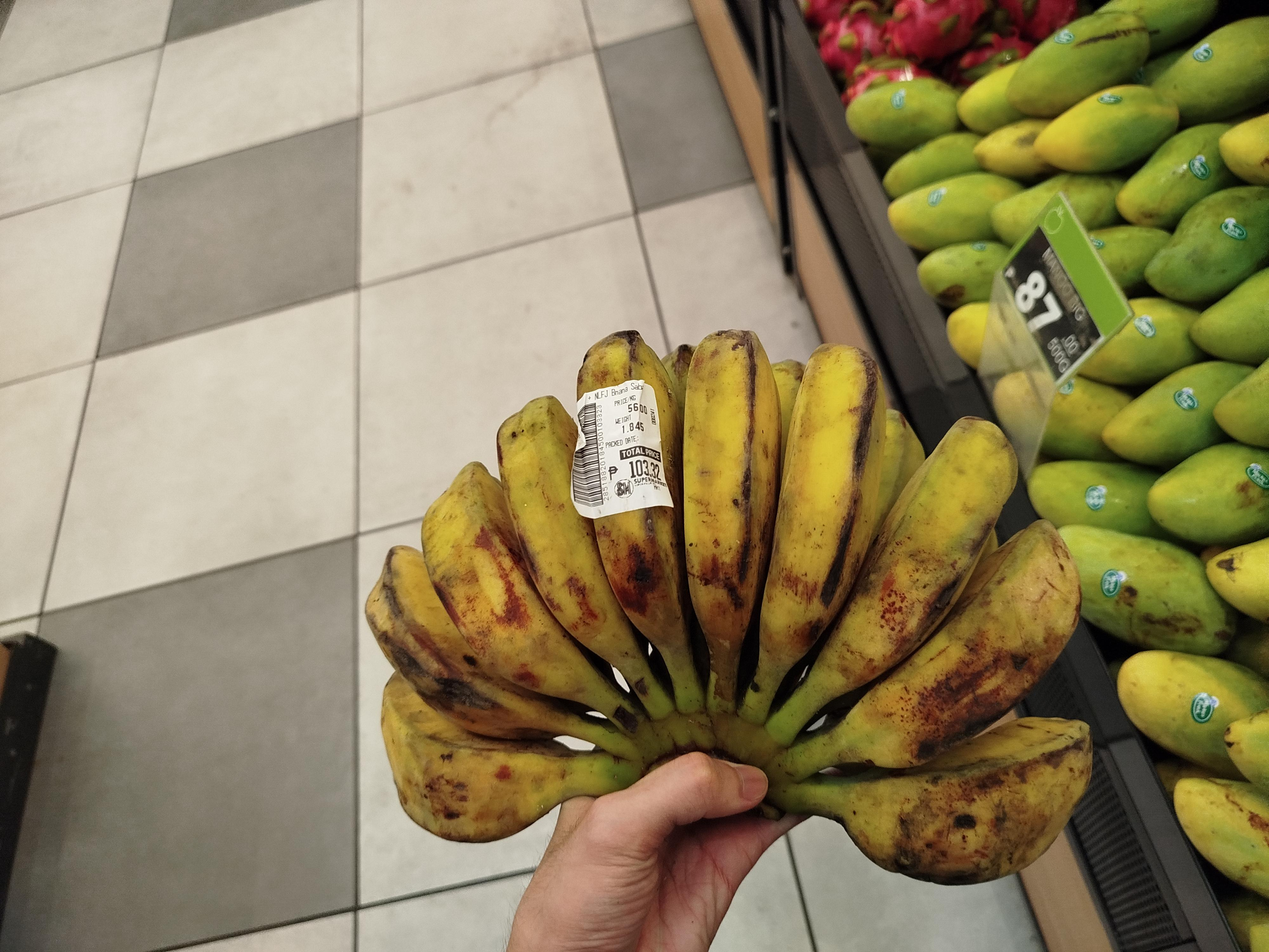ripe: (366, 330, 1090, 886)
